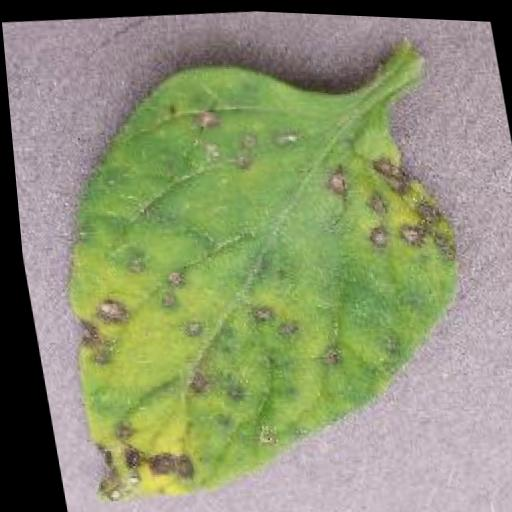Septoria: (22, 38, 491, 512)
